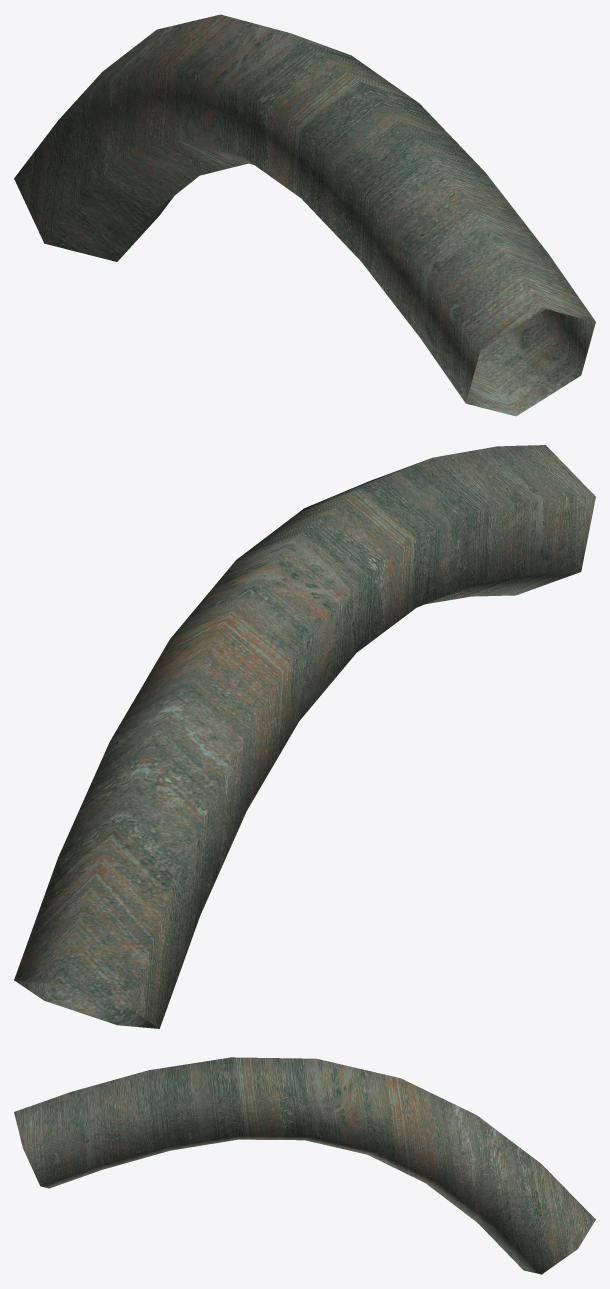
Rendered from LINGUA(1).fbx.
3 renders of one model, top to bottom at view 1: azimuth 30°, elevation 25°; view 2: azimuth 150°, elevation 25°; view 3: azimuth 270°, elevation 25°, orthographic. The views are drawn at different scales.
Parts seen in each view (by area): view 1: extrudedSurface1; view 2: extrudedSurface1; view 3: extrudedSurface1.
Part boxes in pixels (box(x1,y1,x2,y2)): extrudedSurface1: box(14, 14, 595, 416); extrudedSurface1: box(14, 445, 595, 1028); extrudedSurface1: box(14, 1057, 595, 1274).
Bounding box in the file's own units: 7.54 × 22.37 × 55.36.
1 material, 1 textured.
